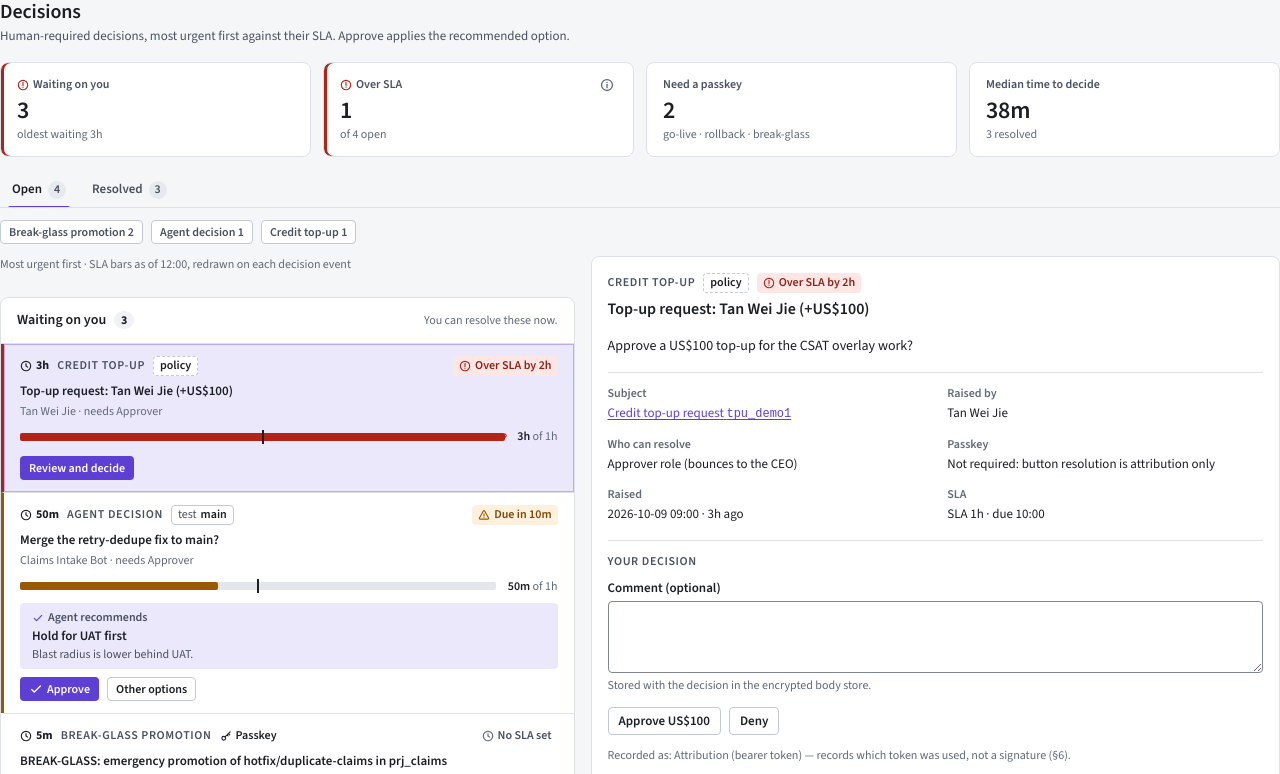
Decisions inbox › Approve applies the recommended option and refetches the queue
Click the button with aria-label "Approve: Hold for UAT first": coordinates (60, 689) [20,677,99,701]
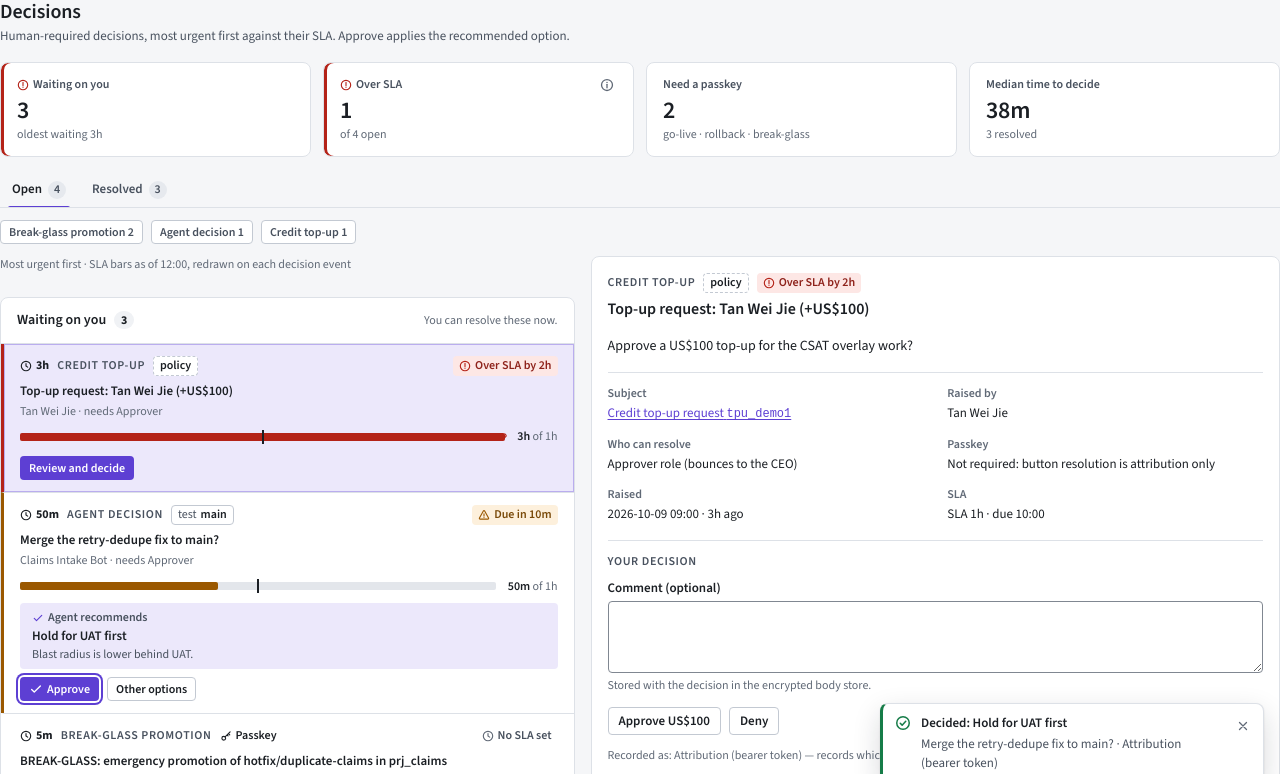
Expected: the text "Decided: Hold for UAT first" is shown, [920,714,1067,732]
